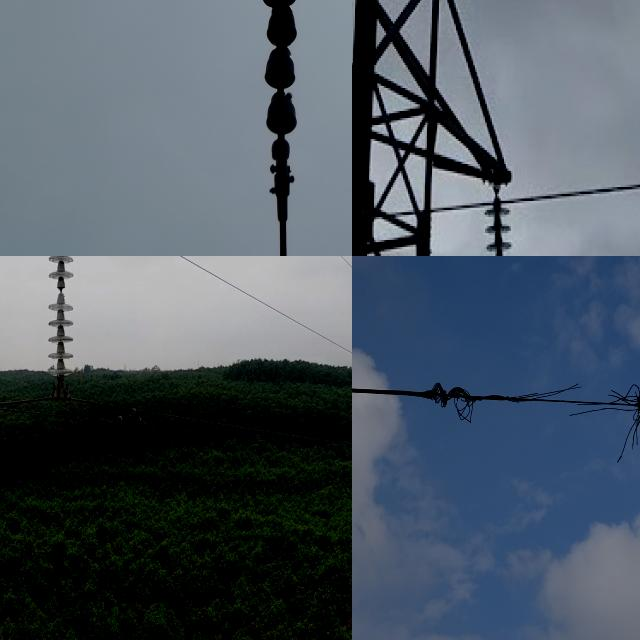杆塔: (352, 0, 511, 256), (0, 256, 88, 640)
正常电缆: (163, 256, 352, 369)
正常绝缘子: (226, 0, 326, 196), (41, 256, 78, 392), (476, 181, 523, 256)
电缆破损: (414, 374, 640, 435)
绝缘子破损: (265, 20, 298, 58), (264, 64, 296, 103), (260, 0, 297, 16), (56, 283, 66, 299)
